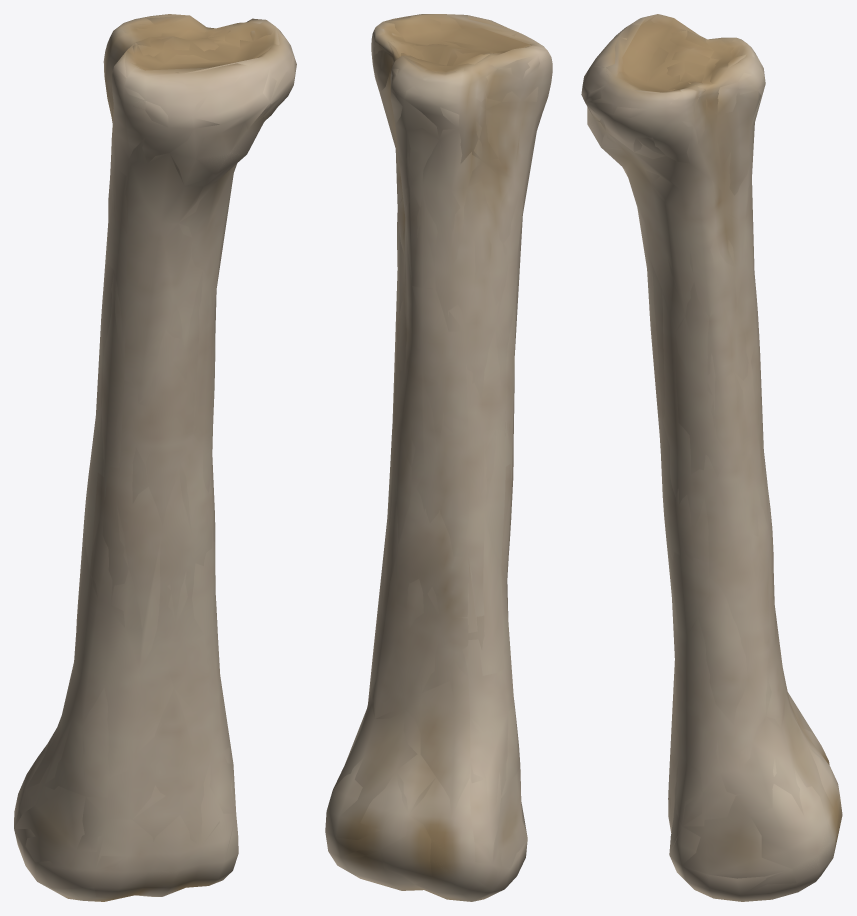
Rendered from L metacarpi tertium.fbx.
3 renders of one model, left to right at view 1: azimuth 30°, elevation 25°; view 2: azimuth 150°, elevation 25°; view 3: azimuth 270°, elevation 25°, orthographic. The views are drawn at different scales.
Visible parts, largest first — view 1: L metacarpi tertium low, L metacarpi tertium; view 2: L metacarpi tertium low, L metacarpi tertium; view 3: L metacarpi tertium low, L metacarpi tertium.
Part boxes in pixels (<box>): L metacarpi tertium low: <box>14,15,296,897</box>; L metacarpi tertium: <box>14,14,296,901</box>; L metacarpi tertium low: <box>327,14,547,901</box>; L metacarpi tertium: <box>325,14,552,901</box>; L metacarpi tertium low: <box>585,14,841,901</box>; L metacarpi tertium: <box>581,14,842,901</box>.
Size of the model in its own units: 7.02 by 29.8 by 8.42.
Materials: 1 (1 with a texture image).
